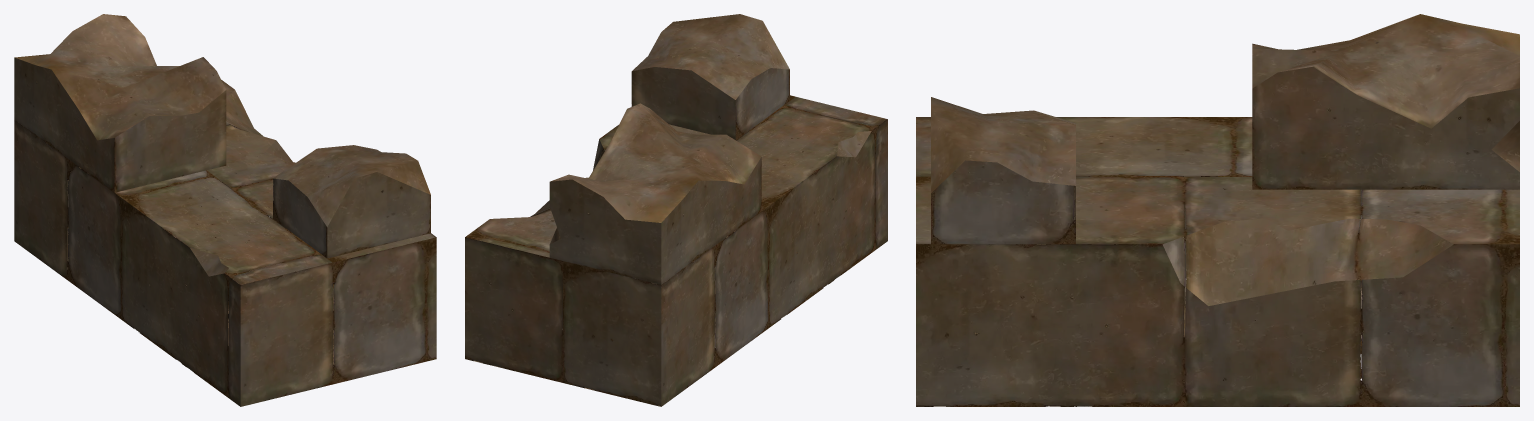
3 views of the same model, side by side, from view 1: azimuth 30°, elevation 25°; view 2: azimuth 150°, elevation 25°; view 3: azimuth 270°, elevation 25° (orthographic). The views are drawn at different scales.
Parts seen in each view (by area): view 1: SM_DK_Crumbled_BrickWall_02_LOD0; view 2: SM_DK_Crumbled_BrickWall_02_LOD0; view 3: SM_DK_Crumbled_BrickWall_02_LOD0.
Part boxes in pixels (left/top/right/bottom): SM_DK_Crumbled_BrickWall_02_LOD0: left=14, top=14, right=436, bottom=406; SM_DK_Crumbled_BrickWall_02_LOD0: left=465, top=14, right=887, bottom=406; SM_DK_Crumbled_BrickWall_02_LOD0: left=916, top=14, right=1519, bottom=406.
Size of the model in its own units: 2 by 2.09 by 4.
Materials: 1 (1 with a texture image).
